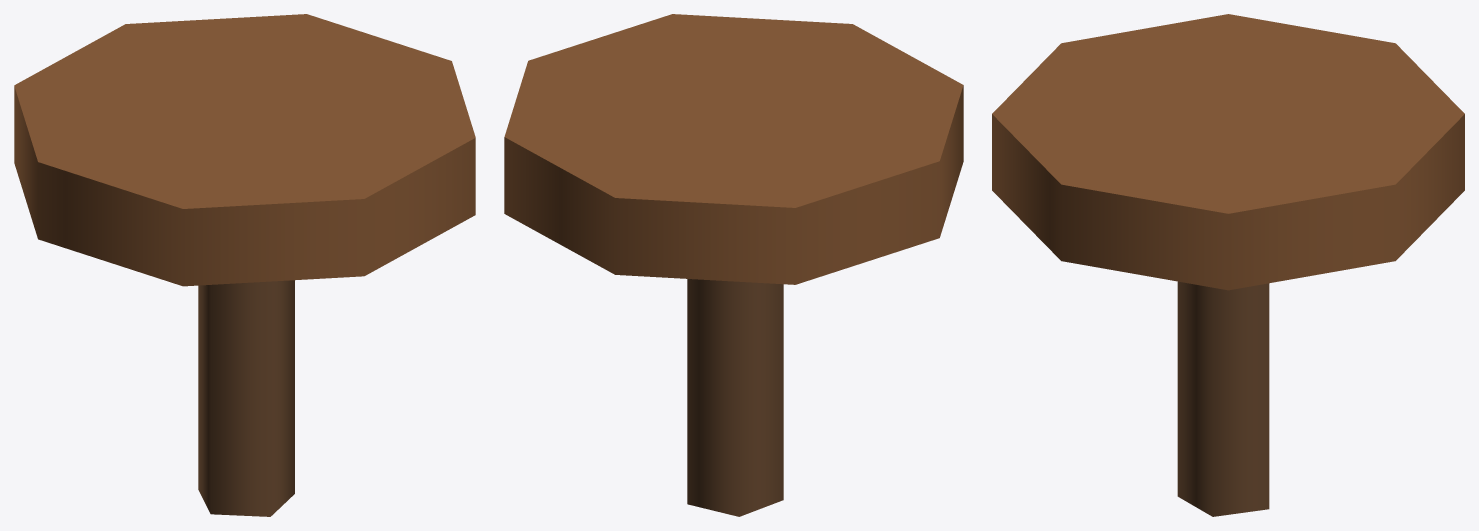
The model's file is stool.glb.
3 renders of one model, left to right at view 1: azimuth 30°, elevation 25°; view 2: azimuth 150°, elevation 25°; view 3: azimuth 270°, elevation 25°, orthographic.
Parts seen in each view (by area): view 1: stool; view 2: stool; view 3: stool.
Part boxes in pixels (x1,y1,x2,y2): stool: (14, 14, 475, 516); stool: (504, 14, 963, 516); stool: (992, 14, 1464, 516).
Bounding box in the file's own units: 0.56 × 0.5 × 0.56.
